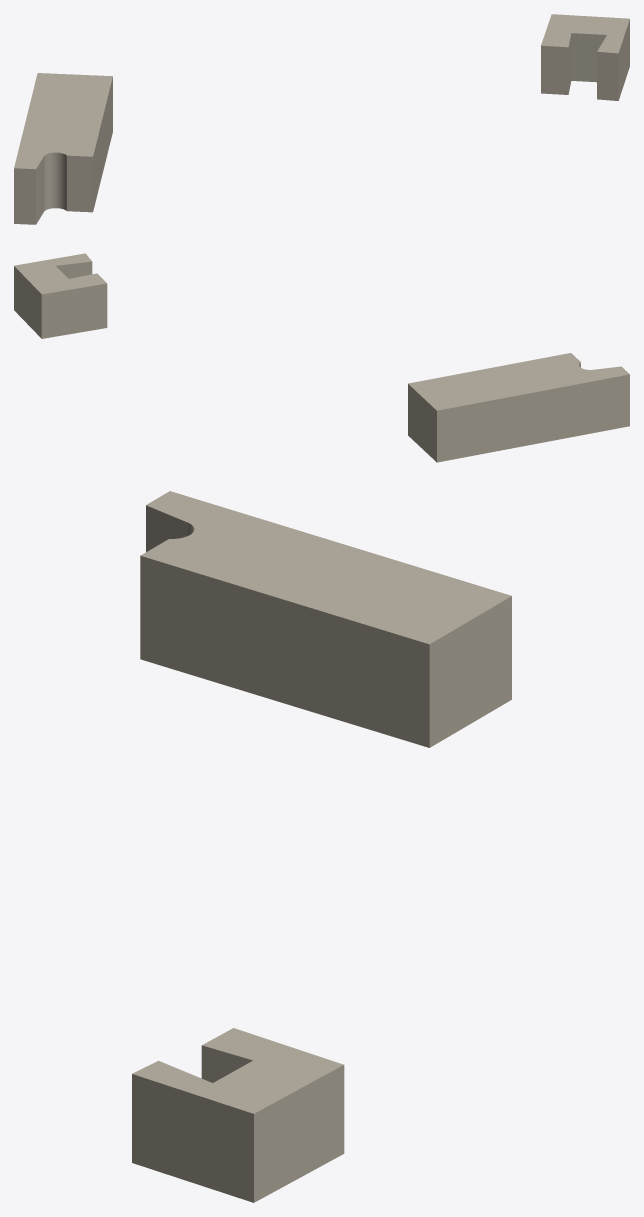
Rendered from kalkara_68_28_collision.glb.
The picture shows the model from 3 angles, top to bottom: view 1: azimuth 30°, elevation 25°; view 2: azimuth 150°, elevation 25°; view 3: azimuth 270°, elevation 25°; orthographic projection. The views are drawn at different scales.
Visible parts, largest first — view 1: geometry_0; view 2: geometry_0; view 3: geometry_0.
Boxes of the visible parts, x1,y1,x2,y2 form: geometry_0: (14, 14, 629, 224); geometry_0: (14, 253, 629, 462); geometry_0: (132, 491, 511, 1202).
Bounding box in the file's own units: 151 × 15.88 × 41.7.
